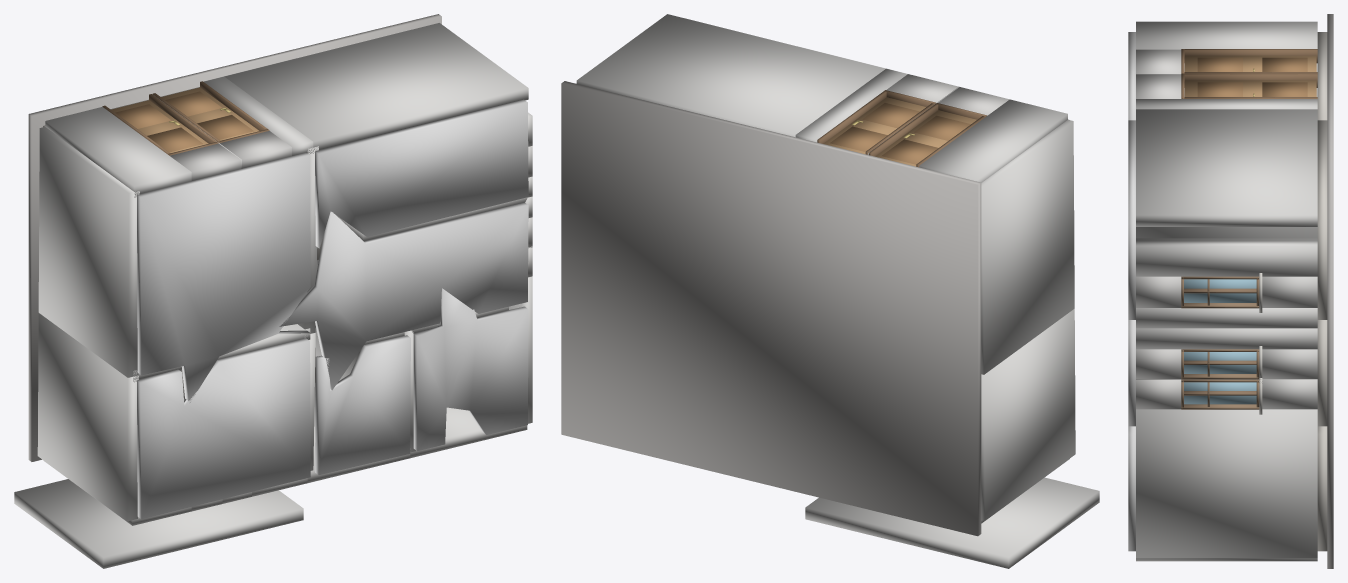
File: benchmark_floorplan_scene.glb
3 views of the same model, side by side, from view 1: azimuth 30°, elevation 25°; view 2: azimuth 150°, elevation 25°; view 3: azimuth 270°, elevation 25° (orthographic).
Visible parts, largest first — view 1: Ceilings, Walls, Plinth, DoorLeaves, Lintels, DoorFrames; view 2: Plinth, Walls, DoorLeaves, DoorFrames, Lintels; view 3: Walls, Lintels, Floors, DoorLeaves, Ceilings, WindowGlasses, Plinth, WindowFrames, DoorFrames, WindowMullions, WindowSills.
Boxes of the visible parts, box(x1,y1,x2,y2) form: Ceilings: box(137, 99, 528, 519); Walls: box(14, 23, 532, 568); Plinth: box(28, 14, 441, 461); DoorLeaves: box(111, 87, 259, 153); Lintels: box(169, 131, 532, 511); DoorFrames: box(102, 81, 269, 155); Plinth: box(561, 81, 981, 536); Walls: box(576, 14, 1099, 568); DoorLeaves: box(823, 97, 976, 166); DoorFrames: box(817, 90, 987, 167); Lintels: box(886, 74, 1009, 115); Walls: box(1136, 21, 1317, 561); Lintels: box(1136, 49, 1181, 409); Floors: box(1317, 32, 1327, 551); DoorLeaves: box(1185, 55, 1316, 96); Ceilings: box(1128, 32, 1135, 551); WindowGlasses: box(1184, 279, 1256, 404); Plinth: box(1327, 14, 1333, 568); WindowFrames: box(1181, 276, 1259, 409); DoorFrames: box(1181, 49, 1317, 98); WindowMullions: box(1184, 279, 1256, 406); WindowSills: box(1259, 273, 1262, 414).
Size of the model in its own units: 7.84 by 6.55 by 3.17.
